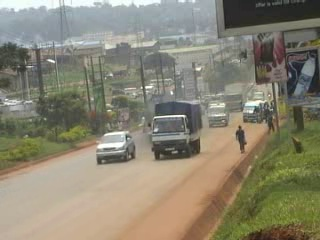Car: (94, 128, 136, 166)
